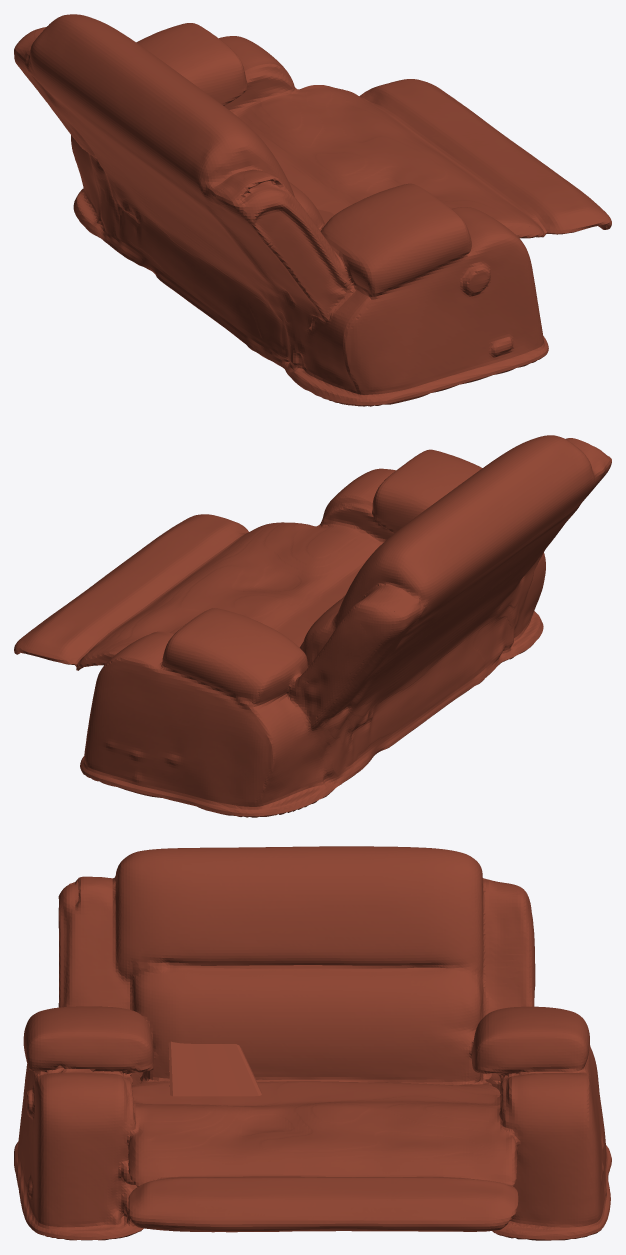
3 views of the same model, one above another, from view 1: azimuth 30°, elevation 25°; view 2: azimuth 150°, elevation 25°; view 3: azimuth 270°, elevation 25° (orthographic). The views are drawn at different scales.
Parts seen in each view (by area): view 1: tmpoe4hlyn8ply; view 2: tmpoe4hlyn8ply; view 3: tmpoe4hlyn8ply.
Part boxes in pixels (x1,y1,x2,y2): tmpoe4hlyn8ply: [14, 14, 611, 406]; tmpoe4hlyn8ply: [14, 435, 611, 817]; tmpoe4hlyn8ply: [14, 846, 611, 1240].
Size of the model in its own units: 1.34 by 0.7708 by 1.64.
